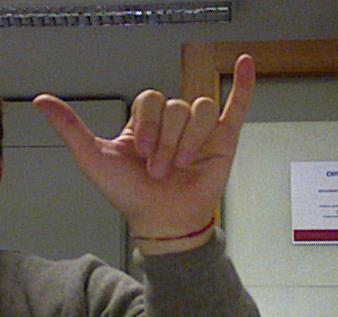clockwise: (32, 51, 258, 236)
